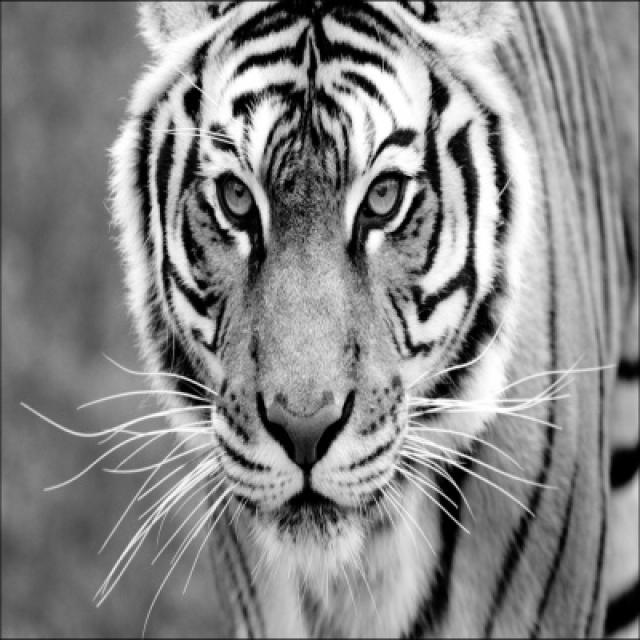Tiger: (112, 0, 531, 629)
